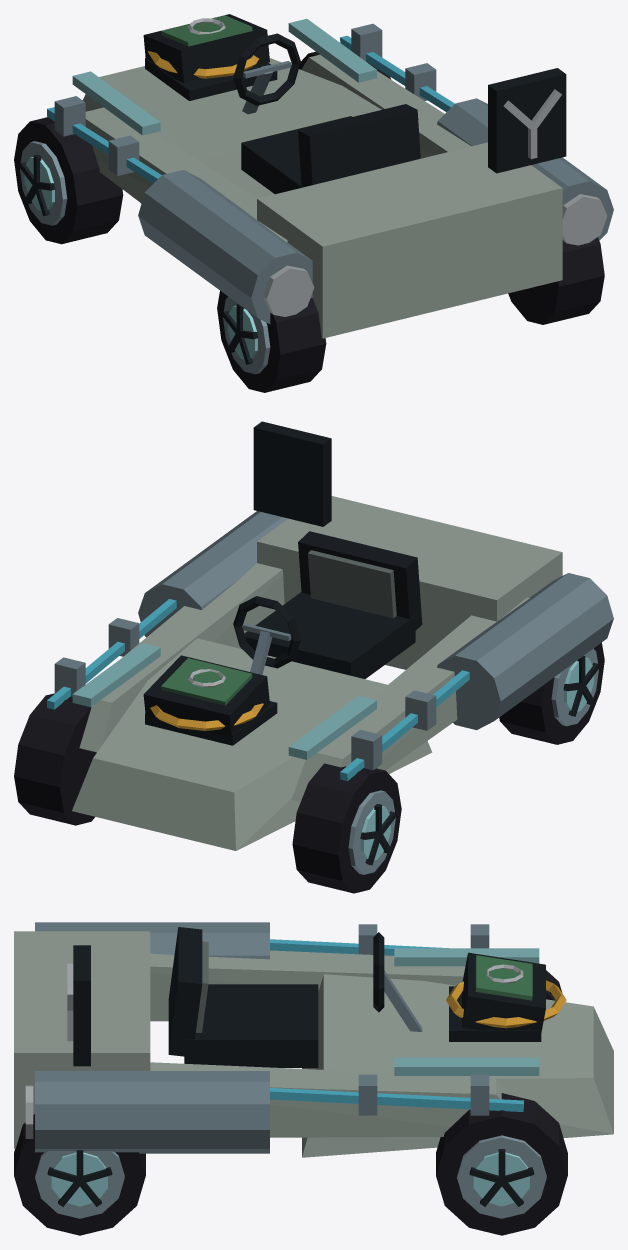
File: kart.glb
The picture shows the model from 3 angles, top to bottom: view 1: azimuth 30°, elevation 25°; view 2: azimuth 150°, elevation 25°; view 3: azimuth 270°, elevation 25°; orthographic projection. The views are drawn at different scales.
Parts seen in each view (by area): view 1: identity-lab-pod-lab-pod-segmented-shell, identity-lab-pod-motif-flux-coils, identity-lab-pod-driver-cockpit, wheel-front-left, wheel-rear-left, identity-lab-pod-motif-scanner, wheel-rear-right, identity-lab-pod-motif-lambda; view 2: identity-lab-pod-lab-pod-segmented-shell, identity-lab-pod-driver-cockpit, identity-lab-pod-motif-flux-coils, wheel-front-left, wheel-front-right, identity-lab-pod-motif-scanner, wheel-rear-left, identity-lab-pod-motif-lambda; view 3: identity-lab-pod-lab-pod-segmented-shell, identity-lab-pod-driver-cockpit, wheel-front-right, wheel-rear-right, identity-lab-pod-motif-flux-coils, identity-lab-pod-motif-scanner, identity-lab-pod-motif-lambda.
Part boxes in pixels (left/top/right/bottom): identity-lab-pod-lab-pod-segmented-shell: left=72, top=18, right=613, bottom=338; identity-lab-pod-motif-flux-coils: left=47, top=23, right=566, bottom=183; identity-lab-pod-driver-cockpit: left=233, top=33, right=420, bottom=194; wheel-front-left: left=14, top=117, right=123, bottom=244; wheel-rear-left: left=217, top=290, right=326, bottom=392; identity-lab-pod-motif-scanner: left=143, top=14, right=269, bottom=82; wheel-rear-right: left=508, top=237, right=604, bottom=324; identity-lab-pod-motif-lambda: left=147, top=51, right=258, bottom=78; identity-lab-pod-lab-pod-segmented-shell: left=72, top=496, right=613, bottom=850; identity-lab-pod-driver-cockpit: left=233, top=531, right=422, bottom=678; identity-lab-pod-motif-flux-coils: left=47, top=421, right=469, bottom=781; wheel-front-left: left=292, top=763, right=401, bottom=893; wheel-front-right: left=14, top=693, right=96, bottom=825; identity-lab-pod-motif-scanner: left=143, top=655, right=269, bottom=736; wheel-rear-left: left=499, top=642, right=604, bottom=744; identity-lab-pod-motif-lambda: left=150, top=703, right=263, bottom=730; identity-lab-pod-lab-pod-segmented-shell: left=14, top=922, right=613, bottom=1157; identity-lab-pod-driver-cockpit: left=168, top=927, right=422, bottom=1067; wheel-front-right: left=436, top=1093, right=567, bottom=1235; wheel-rear-right: left=14, top=1114, right=145, bottom=1235; identity-lab-pod-motif-flux-coils: left=67, top=924, right=523, bottom=1115; identity-lab-pod-motif-scanner: left=462, top=952, right=545, bottom=1032; identity-lab-pod-motif-lambda: left=446, top=980, right=566, bottom=1028.
Bounding box in the file's own units: 1.98 × 1.26 × 2.73.
